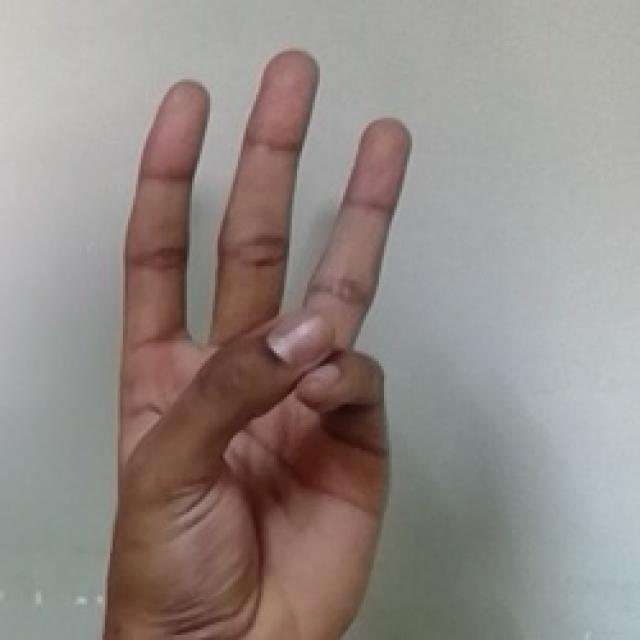Numeric-6: (89, 42, 418, 636)
